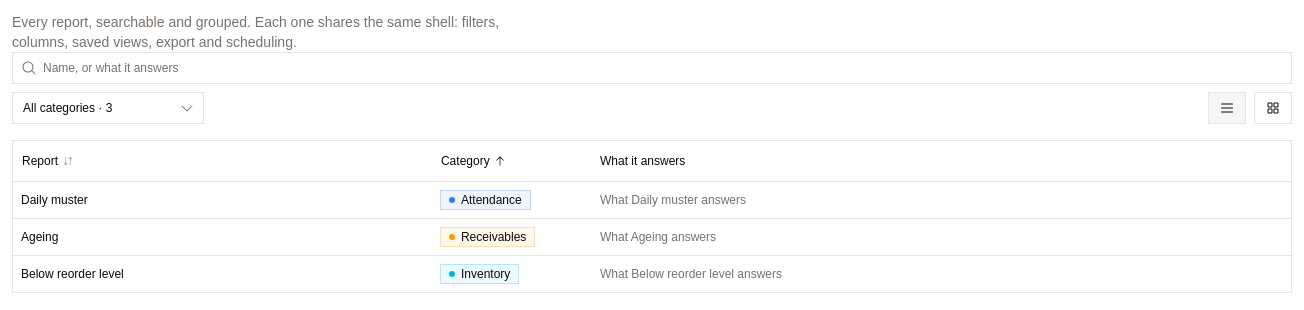
Scenario: the report catalogue › carries the search filter across a view change
Type "ageing" into the search field named "Search reports" at [664, 68], box [37,52,1291,84]
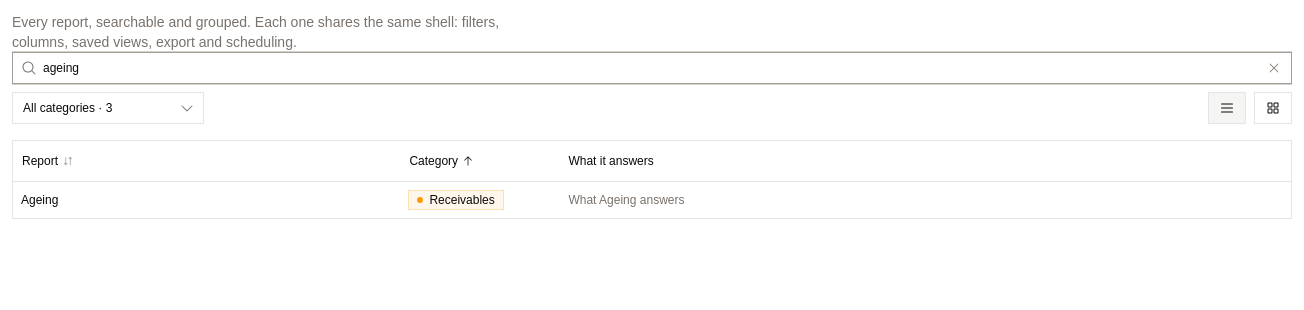
Click the button named "Card view" at [1273, 108], box [1254,92,1292,124]
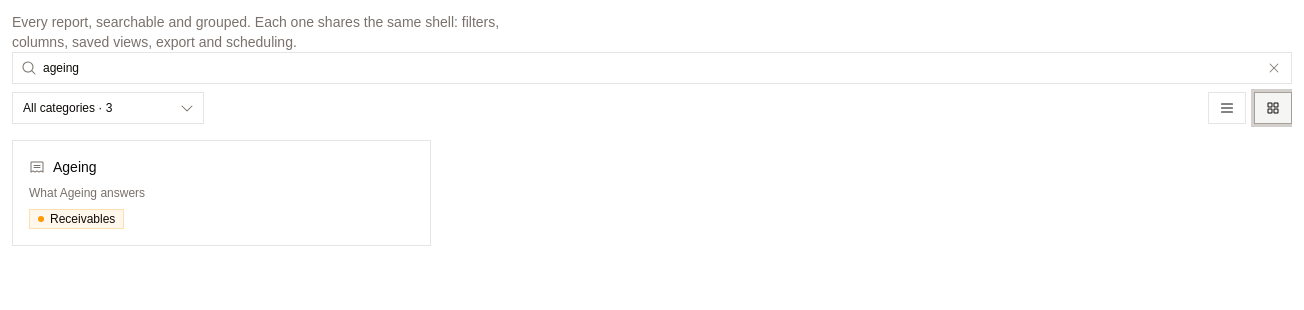
Expected: the text "Daily muster" is not shown
Result: the button "Ageing What Ageing answers Receivables" is shown at [12,140,431,246]
